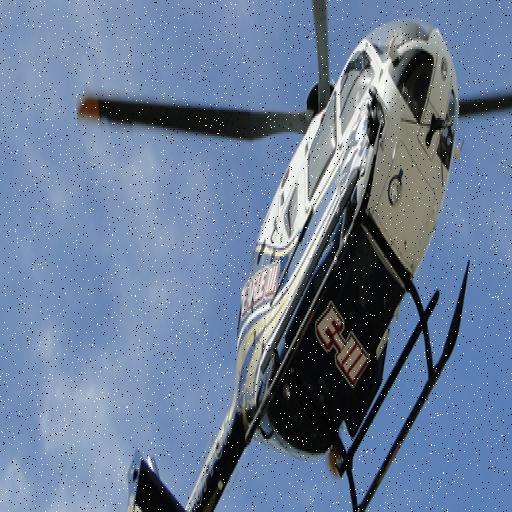helicopter: (79, 1, 512, 512)
